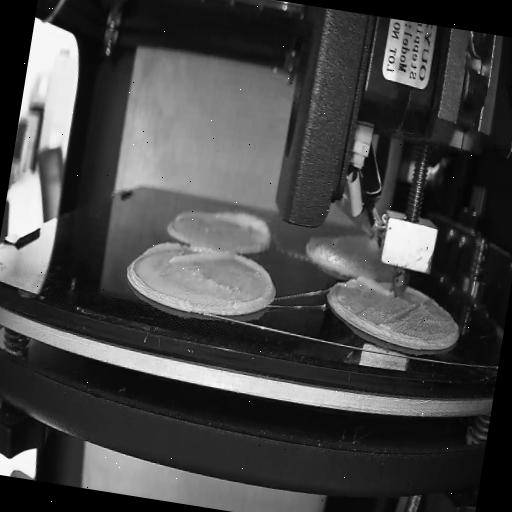over_extrusion: (225, 252, 277, 314), (142, 236, 228, 272), (214, 206, 274, 246), (358, 274, 395, 296)
